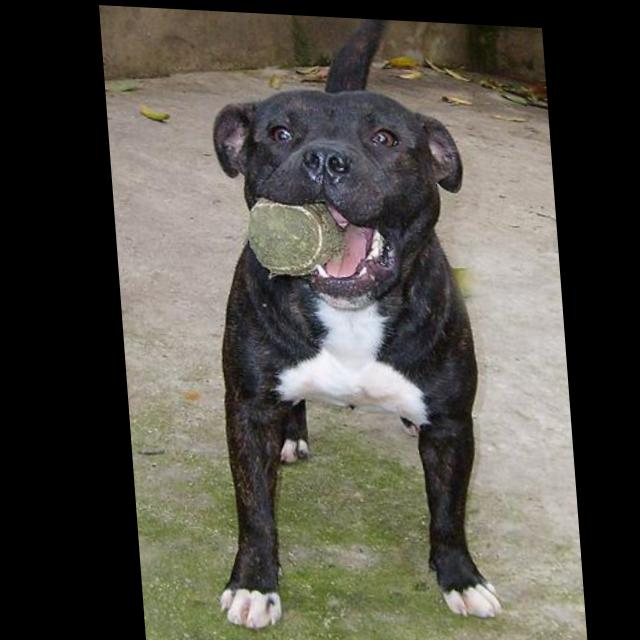staffford: (175, 9, 496, 639)
